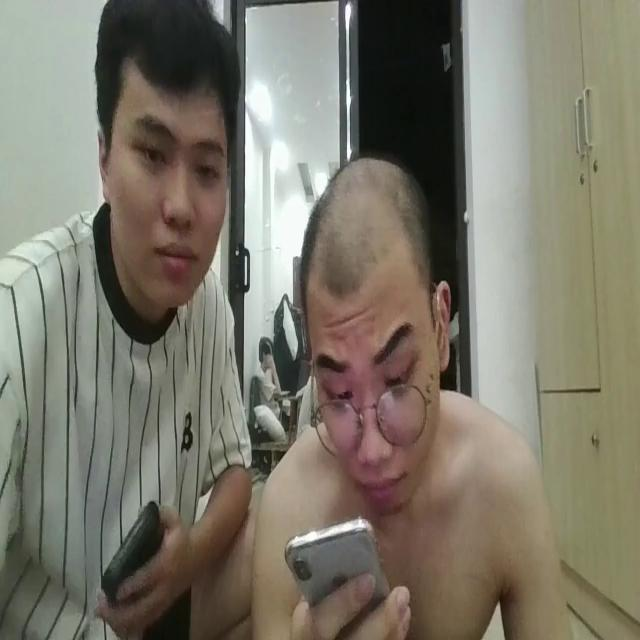extra_person: (1, 0, 254, 640)
phone: (278, 492, 412, 640), (88, 460, 183, 635)
student: (254, 142, 576, 640)
